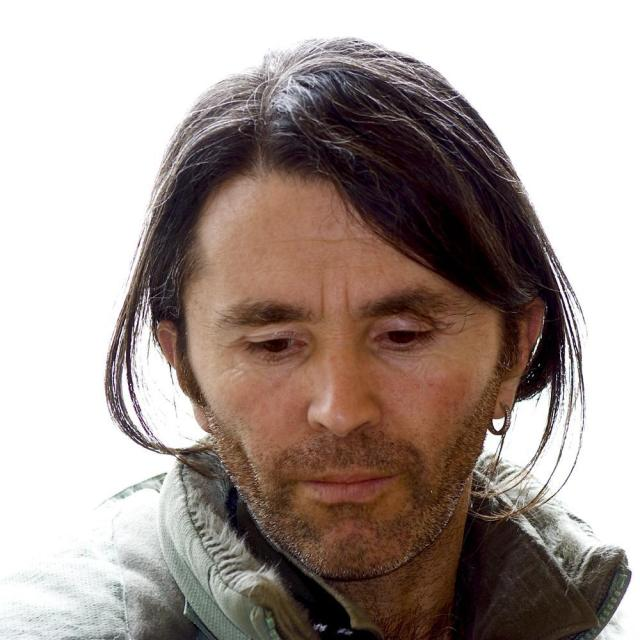no-glass: (242, 322, 434, 357)
